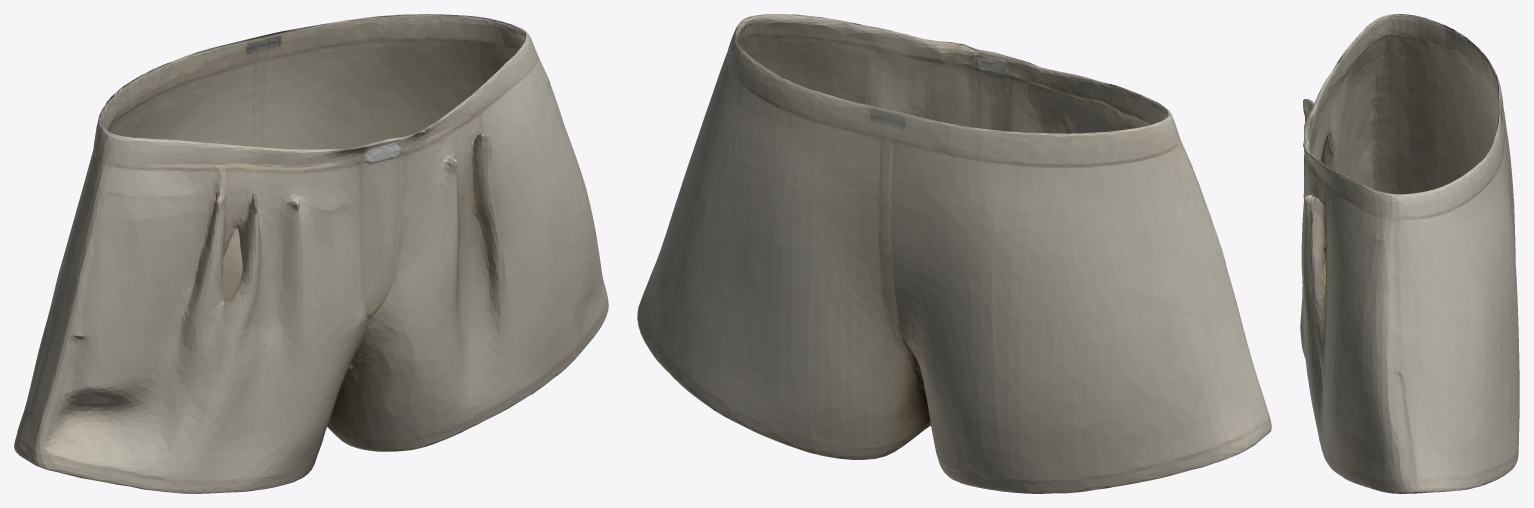
Rendered from shorts.glb.
The picture shows the model from 3 angles, left to right: view 1: azimuth 30°, elevation 25°; view 2: azimuth 150°, elevation 25°; view 3: azimuth 270°, elevation 25°; orthographic projection. The views are drawn at different scales.
Visible parts, largest first — view 1: world; view 2: world; view 3: world.
Part boxes in pixels (left/top/right/bottom): world: left=14, top=14, right=608, bottom=493; world: left=637, top=14, right=1271, bottom=493; world: left=1300, top=14, right=1519, bottom=493.
Size of the model in its own units: 1 by 0.5806 by 0.3636.
Materials: 1 (1 with a texture image).
